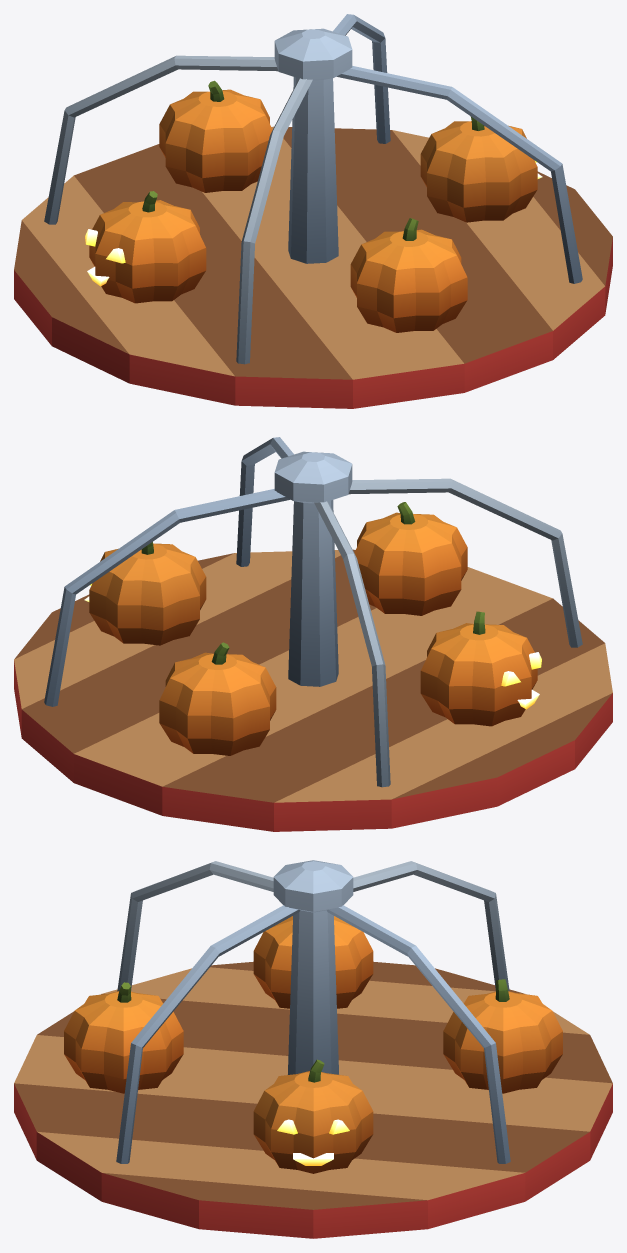
Rendered from PlayGround_Kit_Merry_Go_Round.fbx.
3 renders of one model, top to bottom at view 1: azimuth 30°, elevation 25°; view 2: azimuth 150°, elevation 25°; view 3: azimuth 270°, elevation 25°, orthographic.
Visible parts, largest first — view 1: PlayGround_Kit_Merry_Go_Round; view 2: PlayGround_Kit_Merry_Go_Round; view 3: PlayGround_Kit_Merry_Go_Round.
Boxes of the visible parts, bbox=[...] form: PlayGround_Kit_Merry_Go_Round: bbox=[14, 14, 612, 408]; PlayGround_Kit_Merry_Go_Round: bbox=[14, 437, 612, 831]; PlayGround_Kit_Merry_Go_Round: bbox=[14, 860, 612, 1238].
Bounding box in the file's own units: 3 × 1.36 × 3.
